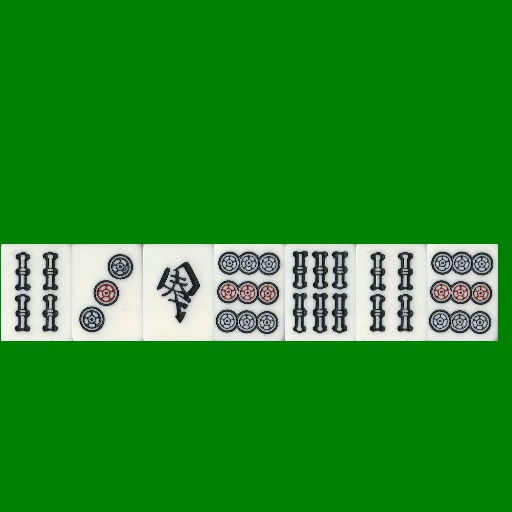3p: (72, 244, 143, 341)
4s: (1, 244, 72, 341), (356, 244, 427, 341)
6s: (285, 244, 356, 341)
9p: (214, 244, 285, 341), (427, 244, 498, 341)
south: (143, 244, 214, 341)
